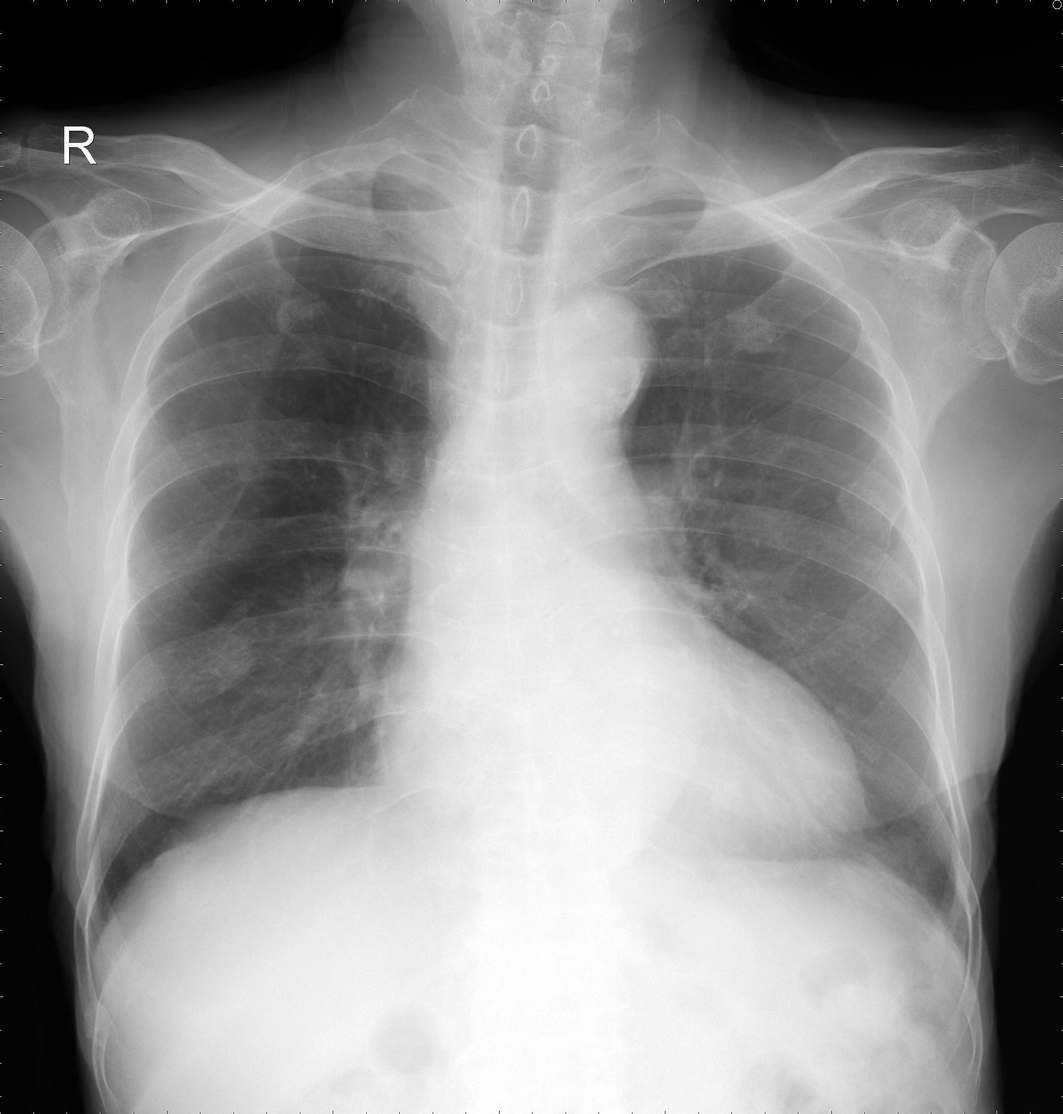Aortic enlargement: (530, 286, 649, 421)
Cardiomegaly: (366, 664, 873, 856)
